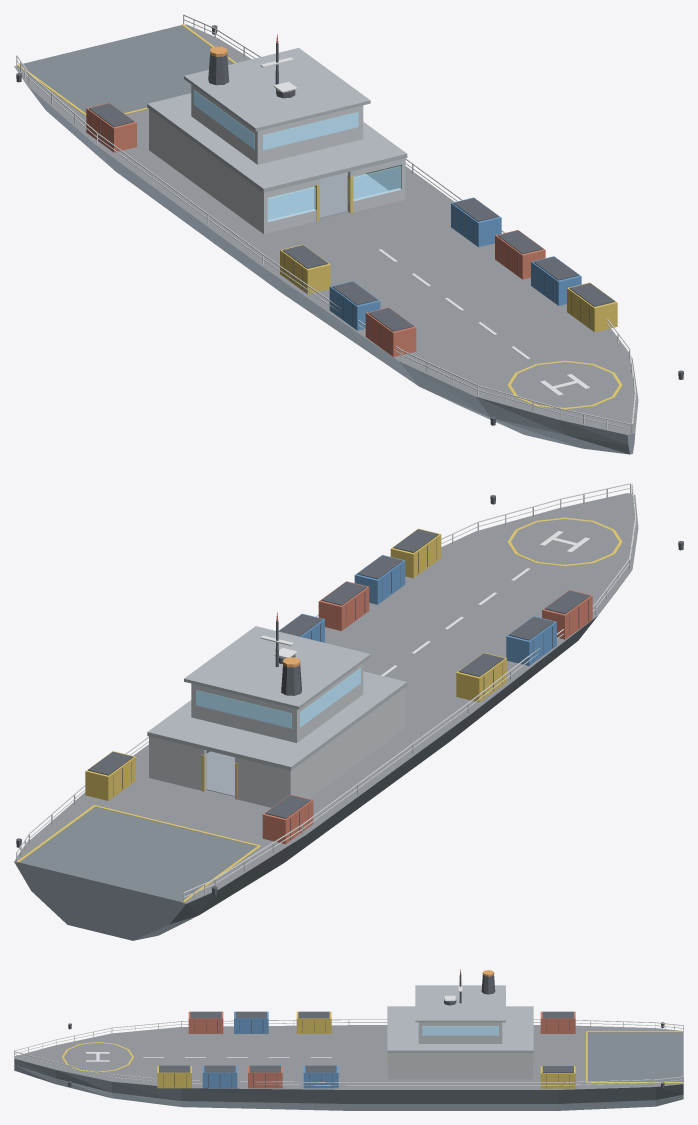
The model's file is carrier.glb.
3 views of the same model, one above another, from view 1: azimuth 30°, elevation 25°; view 2: azimuth 150°, elevation 25°; view 3: azimuth 270°, elevation 25° (orthographic). The views are drawn at different scales.
Visible parts, largest first — view 1: carrier; view 2: carrier; view 3: carrier.
Boxes of the visible parts, bbox=[...] form: carrier: bbox=[14, 14, 683, 454]; carrier: bbox=[14, 483, 683, 940]; carrier: bbox=[14, 969, 683, 1110].
Size of the model in its own units: 22 by 20.5 by 96.08.
